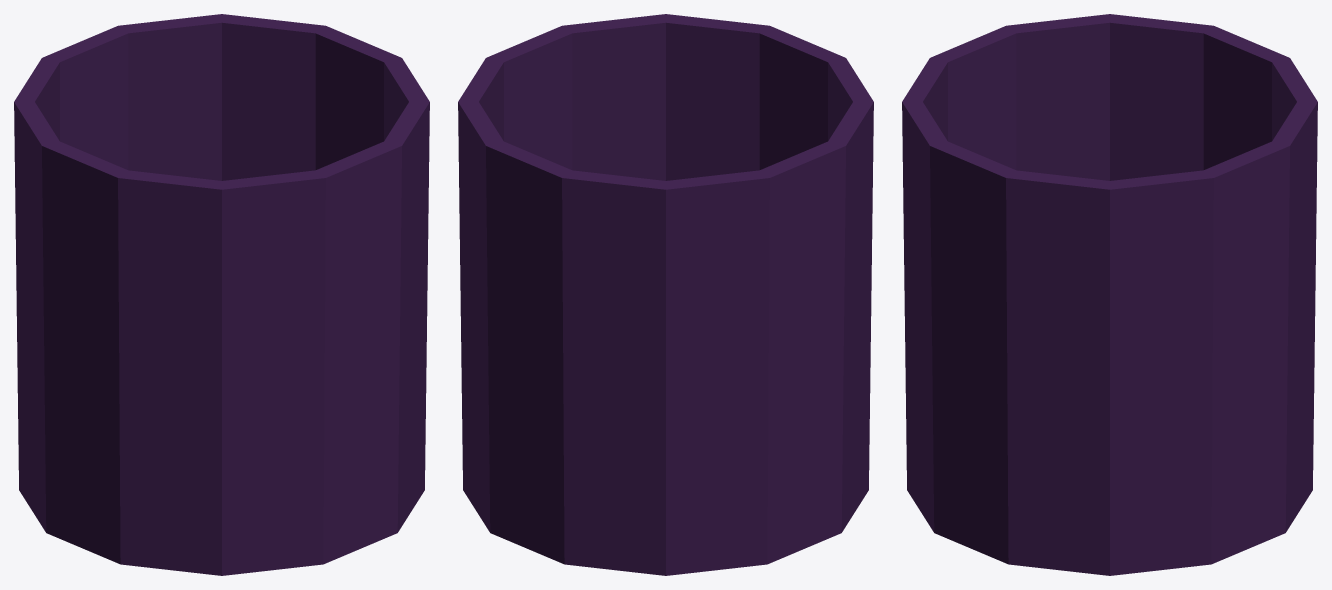
File: PENCIL_HOLDER.fbx
The picture shows the model from 3 angles, left to right: view 1: azimuth 30°, elevation 25°; view 2: azimuth 150°, elevation 25°; view 3: azimuth 270°, elevation 25°; orthographic projection.
Visible parts, largest first — view 1: PENCIL_HOLDER; view 2: PENCIL_HOLDER; view 3: PENCIL_HOLDER.
Boxes of the visible parts, x1,y1,x2,y2 form: PENCIL_HOLDER: [14, 14, 429, 575]; PENCIL_HOLDER: [458, 14, 873, 575]; PENCIL_HOLDER: [902, 14, 1317, 575].
Bounding box in the file's own units: 8.47 × 8.73 × 8.47.
